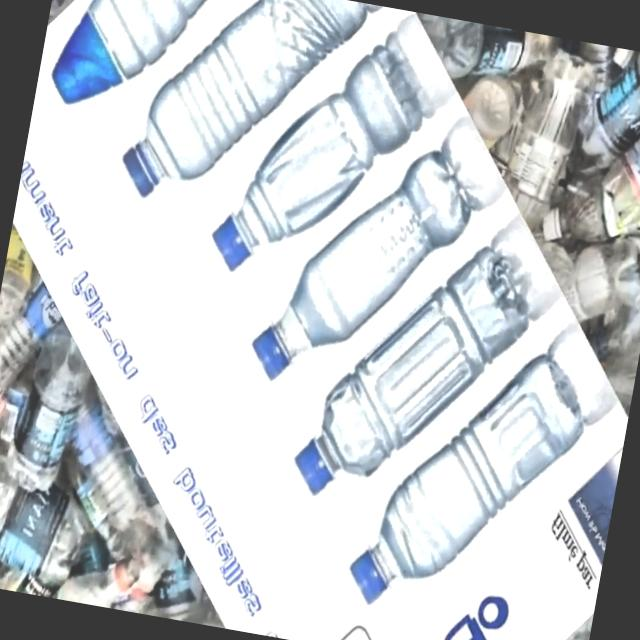plastic bottle: (213, 16, 452, 270), (296, 247, 532, 493), (351, 356, 584, 603), (253, 153, 471, 380), (123, 0, 367, 196)
